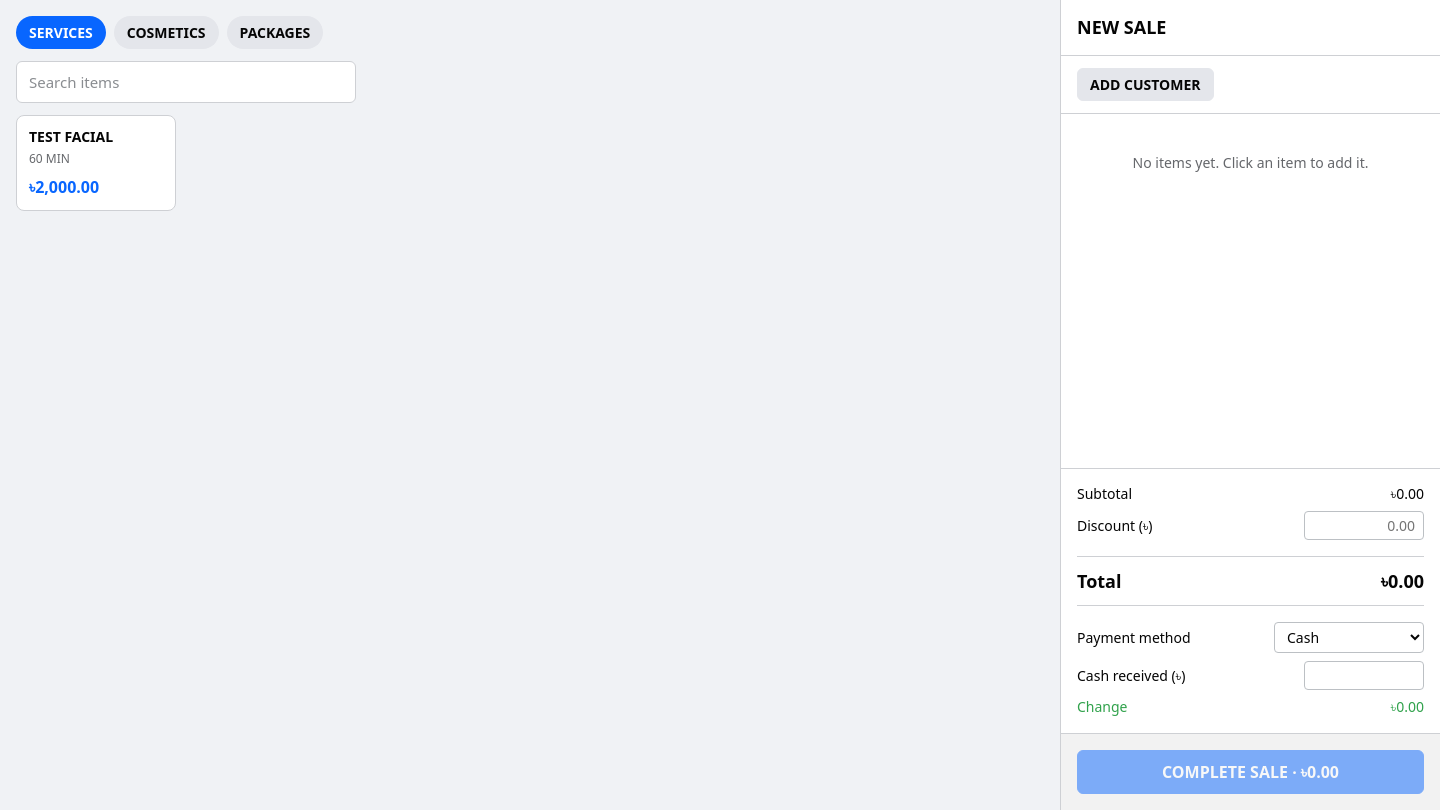
Scenario: NewSalePage › switches to a product tab and shows products
Check: the text "Test Facial" is shown, box [29,128,113,146]
Click the button "Cosmetics": (166, 32) [114,16,218,49]
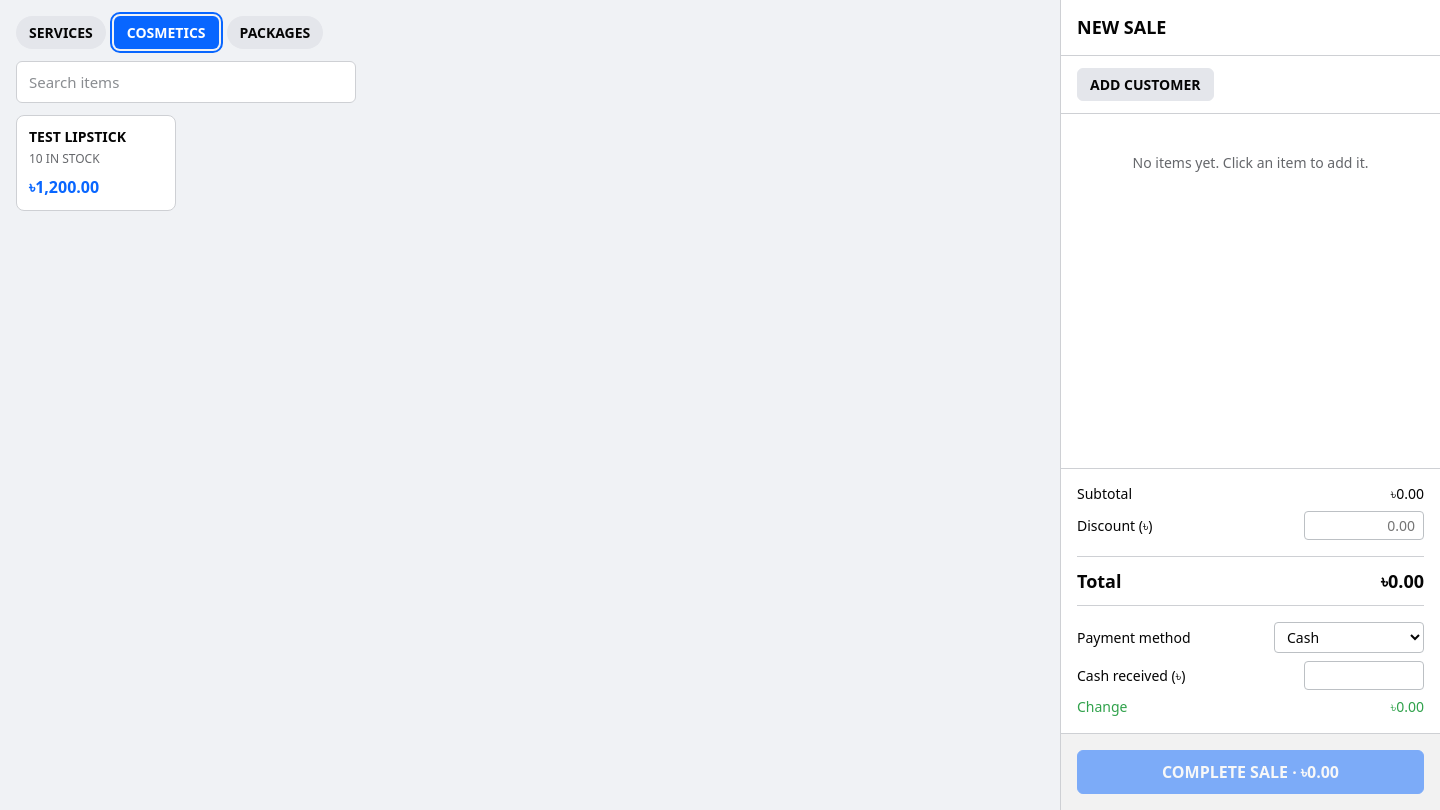
Check: the text "Test Lipstick" is shown, box [29,128,126,146]
